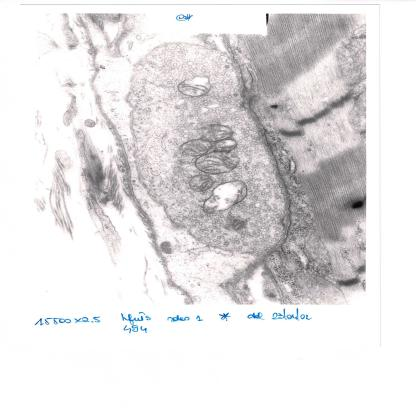mitochondria: (202, 179, 248, 214), (194, 151, 241, 175), (176, 76, 214, 97), (196, 123, 234, 142), (180, 138, 213, 157), (188, 174, 216, 192), (212, 139, 239, 152), (84, 118, 96, 128)
